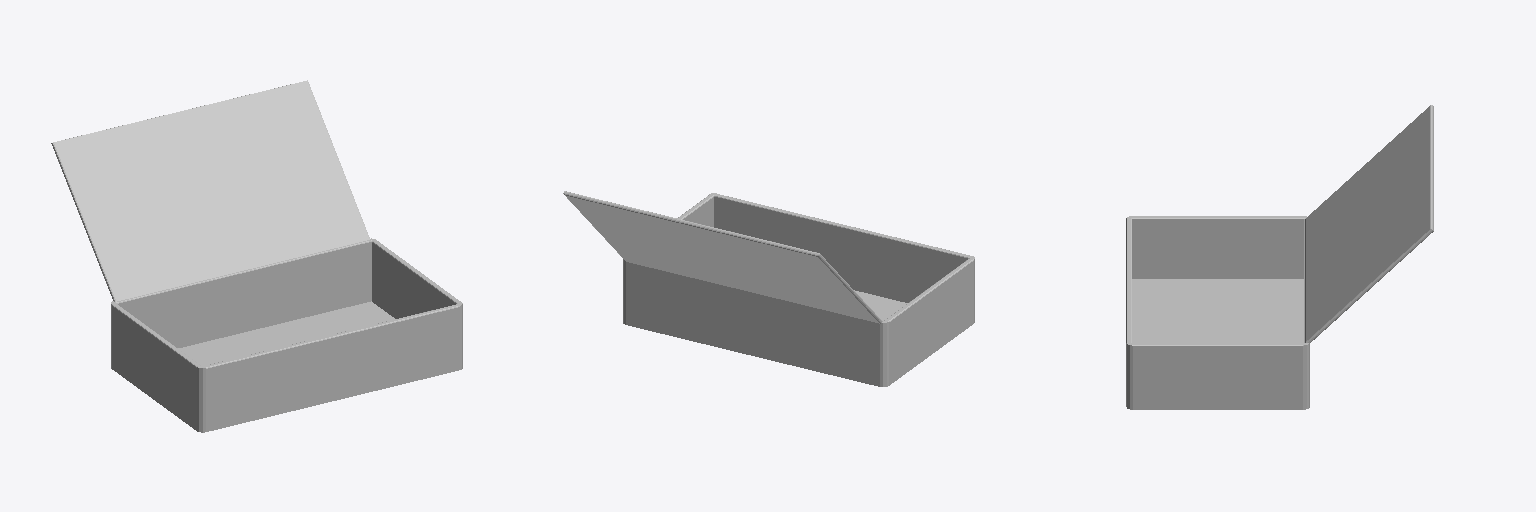
The model's file is luggage.obj.
3 views of the same model, side by side, from view 1: azimuth 30°, elevation 25°; view 2: azimuth 150°, elevation 25°; view 3: azimuth 270°, elevation 25° (orthographic).
Visible parts, largest first — view 1: Cube, Plane; view 2: Cube, Plane; view 3: Cube, Plane.
Part boxes in pixels (x1,y1,x2,y2): Cube: (111,238,462,432); Plane: (51,80,369,301); Cube: (623,193,974,386); Plane: (563,191,882,323); Cube: (1126,216,1309,409); Plane: (1305,105,1433,342).
Bounding box in the file's own units: 5.53 × 3.55 × 5.55.